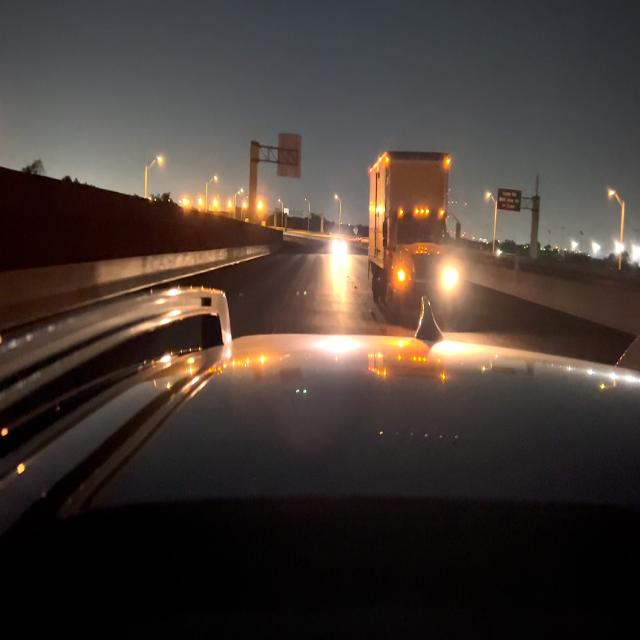back-of-sign: (279, 134, 303, 179)
